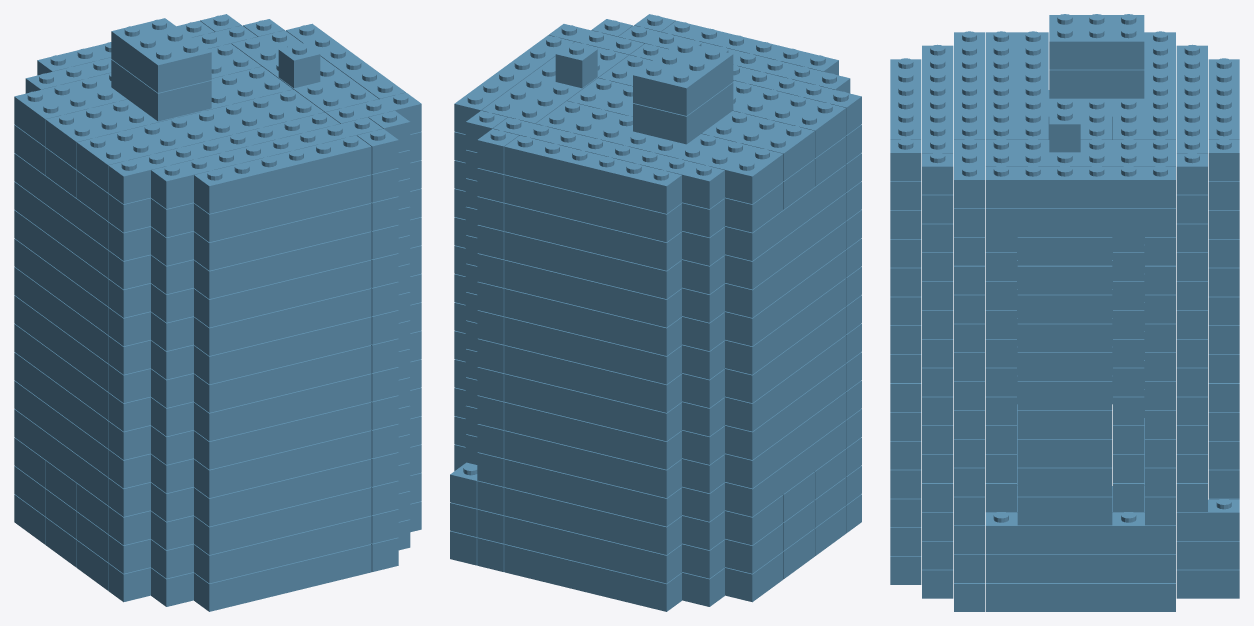
File: 122_camera_L2.glb
3 renders of one model, left to right at view 1: azimuth 30°, elevation 25°; view 2: azimuth 150°, elevation 25°; view 3: azimuth 270°, elevation 25°, orthographic.
Size of the model in its own units: 10.98 by 17.13 by 10.98.
